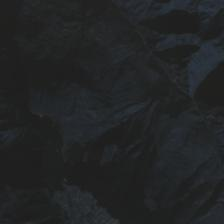landslides: (164, 0, 174, 19), (25, 0, 39, 8)
